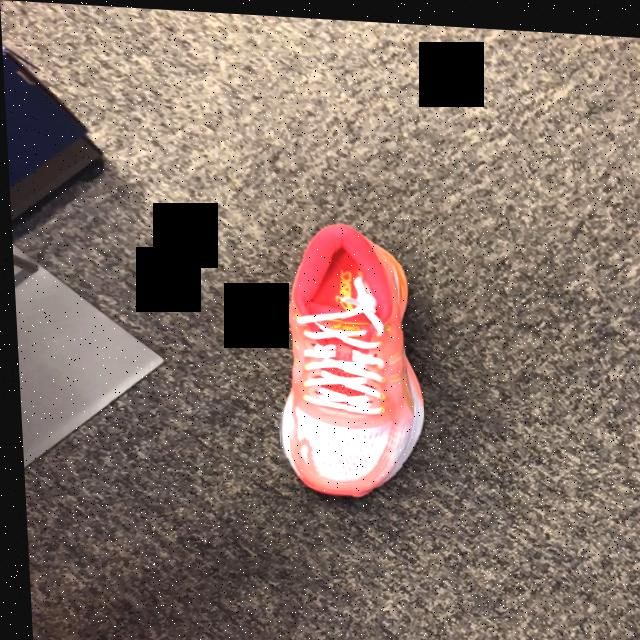shoe: (276, 221, 420, 497)
